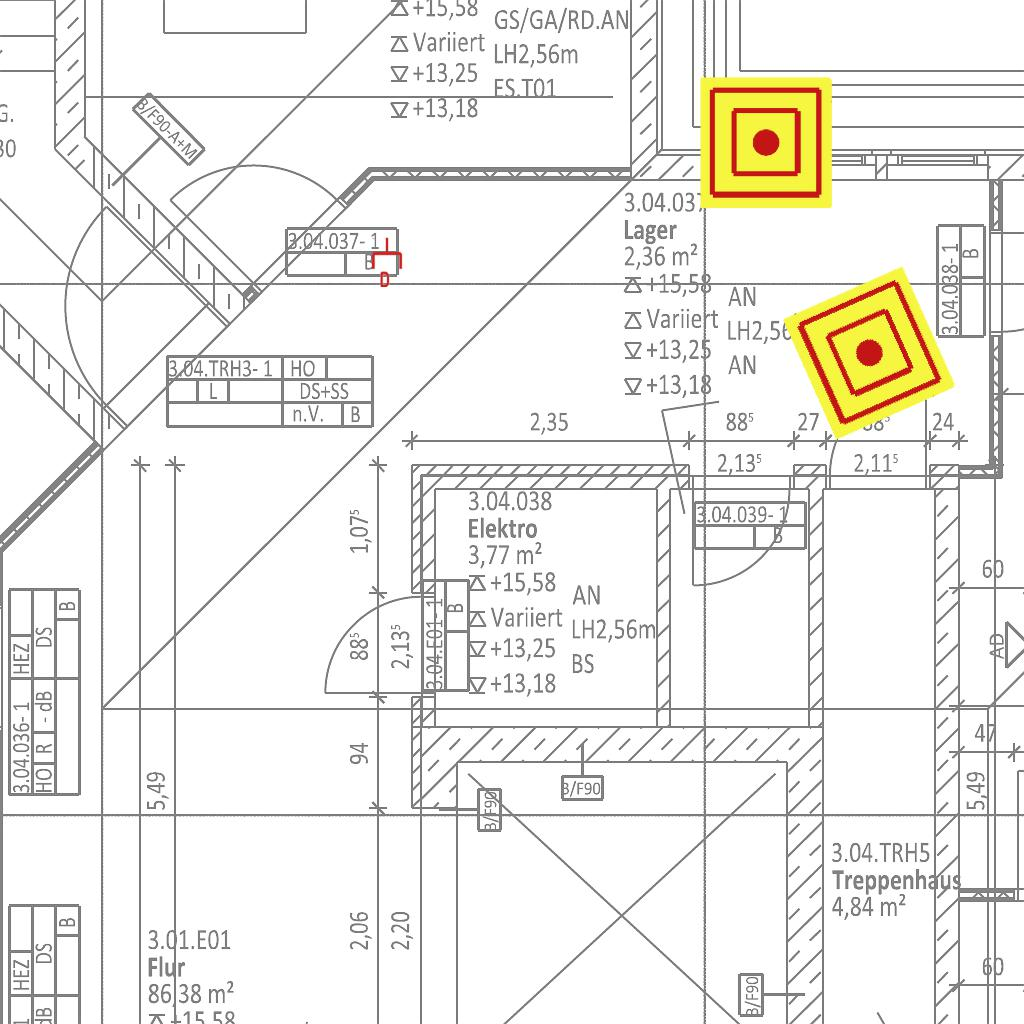Datenanschluss_einfach: (370, 237, 404, 287)
NAM-Nichtautomatischer_Melder: (781, 265, 957, 441), (700, 77, 832, 209)
